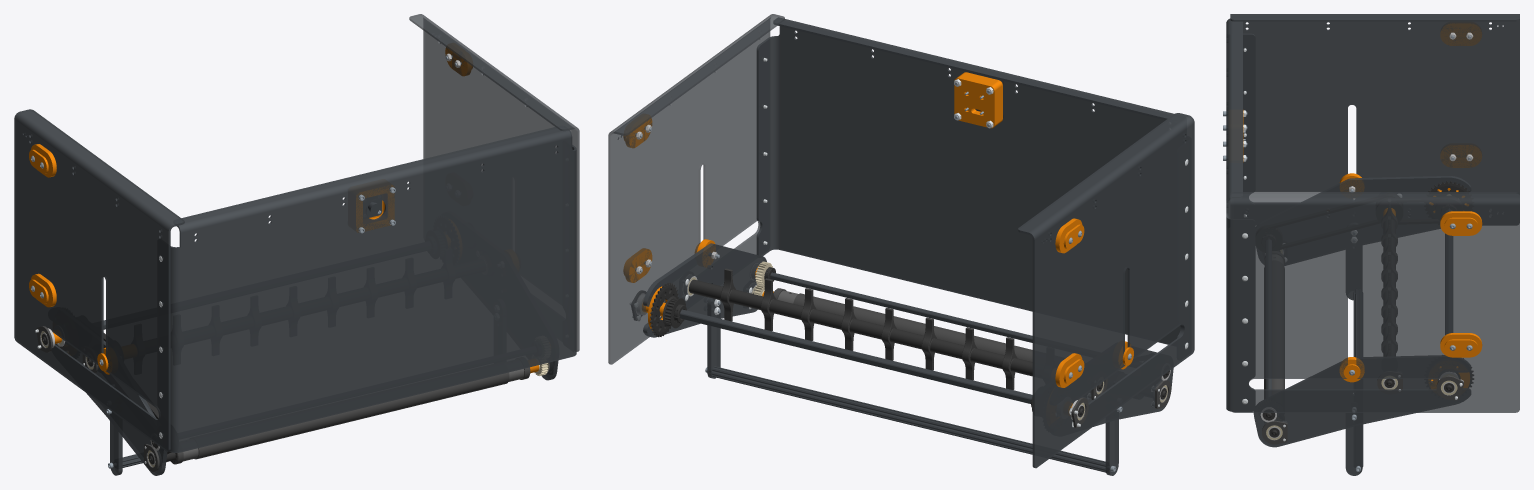
3 views of the same model, side by side, from view 1: azimuth 30°, elevation 25°; view 2: azimuth 150°, elevation 25°; view 3: azimuth 270°, elevation 25° (orthographic). The views are drawn at different scales.
Visible parts, largest first — view 1: Front Hopper Extension Plate, Left Hopper Extension Plate, Right Hopper Extension Plate, SIlicone Sleeve, Left Pivot Plate, Left Kicker Bar Plate; view 2: Front Hopper Extension Plate, Left Hopper Extension Plate, Right Hopper Extension Plate, Churro (24.5 in), Right Pivot Plate, 1/2" Rounded Hex (REV) (27.375 in), SIlicone Sleeve, Intake Camera Mount, 3/8" ThunderHex (25.625 in), Left Pivot Plate, Right Kicker Bar Plate, 36t Aluminum Sprocket (#25, SplineXL Bore) (+1 smaller); view 3: Right Hopper Extension Plate, Left Hopper Extension Plate, Front Hopper Extension Plate, Right Pivot Plate, Left Pivot Plate, Horizontal Slider Spacer (Middle) (×4), SIlicone Sleeve, 100T 5M 9mm Wide Belt, BearingHat75 (×3), Left Kicker Bar Plate, 3/8" ThunderHex (25.625 in), Horizontal Slider Spacer (Outside) (×2) (+7 smaller).
Boxes of the visible parts, left/top/right/bottom form: Front Hopper Extension Plate: left=158, top=125, right=576, bottom=452; Left Hopper Extension Plate: left=14, top=109, right=184, bottom=451; Right Hopper Extension Plate: left=409, top=14, right=579, bottom=351; SIlicone Sleeve: left=194, top=372, right=509, bottom=459; Left Pivot Plate: left=55, top=340, right=167, bottom=475; Left Kicker Bar Plate: left=110, top=413, right=122, bottom=475; Front Hopper Extension Plate: left=756, top=17, right=1189, bottom=358; Left Hopper Extension Plate: left=1018, top=113, right=1194, bottom=468; Right Hopper Extension Plate: left=608, top=14, right=784, bottom=364; Churro (24.5 in): left=711, top=366, right=1109, bottom=472; Right Pivot Plate: left=643, top=243, right=766, bottom=337; 1/2" Rounded Hex (REV) (27.375 in): left=679, top=309, right=1032, bottom=403; SIlicone Sleeve: left=793, top=293, right=1032, bottom=361; Intake Camera Mount: left=954, top=72, right=1002, bottom=128; 3/8" ThunderHex (25.625 in): left=770, top=272, right=1032, bottom=342; Left Pivot Plate: left=1082, top=350, right=1173, bottom=426; Right Kicker Bar Plate: left=707, top=297, right=720, bottom=378; 36t Aluminum Sprocket (#25, SplineXL Bore): left=650, top=282, right=678, bottom=337; Right Hopper Extension Plate: left=1230, top=192, right=1519, bottom=412; Left Hopper Extension Plate: left=1230, top=14, right=1519, bottom=225; Front Hopper Extension Plate: left=1226, top=18, right=1255, bottom=411; Right Pivot Plate: left=1253, top=355, right=1470, bottom=447; Left Pivot Plate: left=1256, top=176, right=1471, bottom=265; Horizontal Slider Spacer (Middle) (×4): left=1440, top=24, right=1482, bottom=357; SIlicone Sleeve: left=1264, top=260, right=1284, bottom=398; 100T 5M 9mm Wide Belt: left=1256, top=194, right=1398, bottom=249; BearingHat75 (×3): left=1262, top=371, right=1463, bottom=444; Left Kicker Bar Plate: left=1346, top=223, right=1362, bottom=300; 3/8" ThunderHex (25.625 in): left=1265, top=239, right=1271, bottom=397; Horizontal Slider Spacer (Outside) (×2): left=1444, top=217, right=1477, bottom=355.
Bounding box in the file's own units: 0.7066 × 0.4699 × 0.4493.
